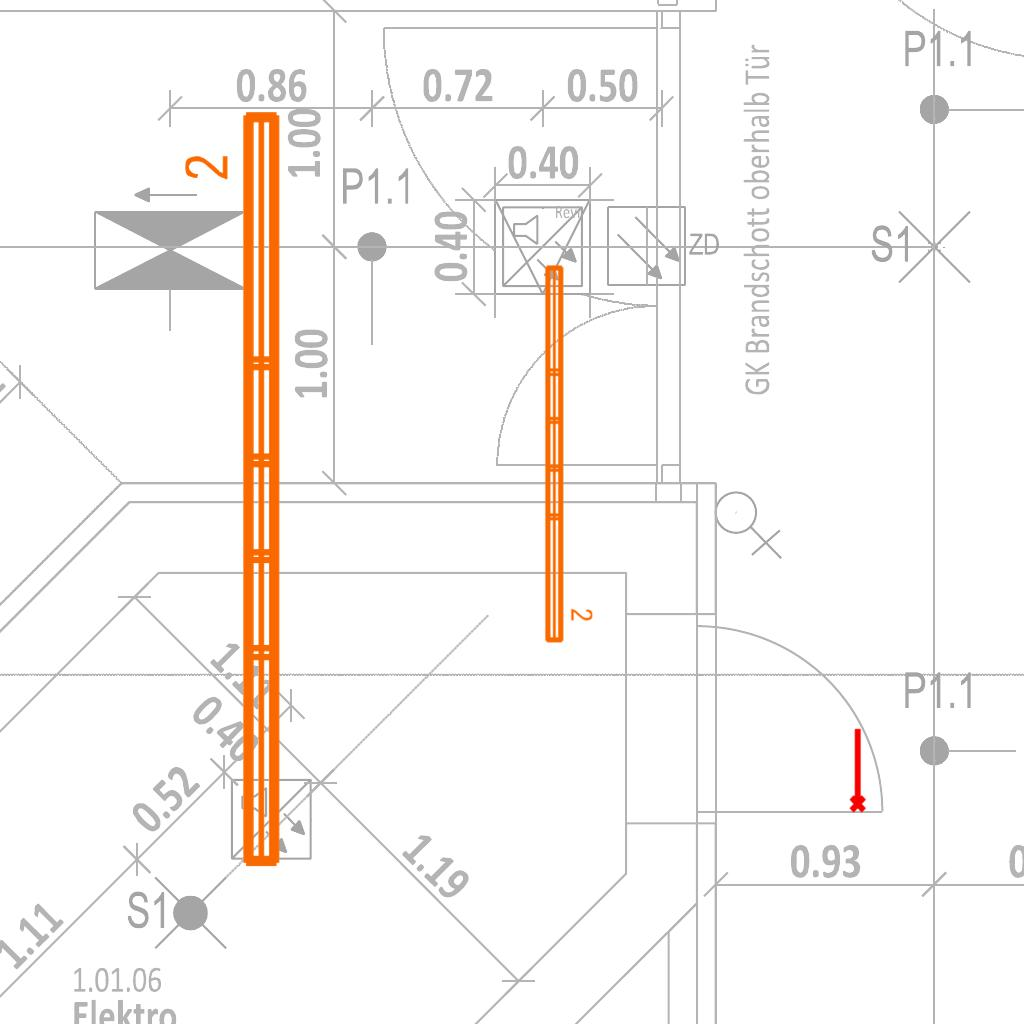ASR_Ansaugoeffnung: (845, 726, 868, 814)
Ambulanz_Pendelleuchte_LED: (180, 103, 292, 877), (539, 260, 595, 647)
